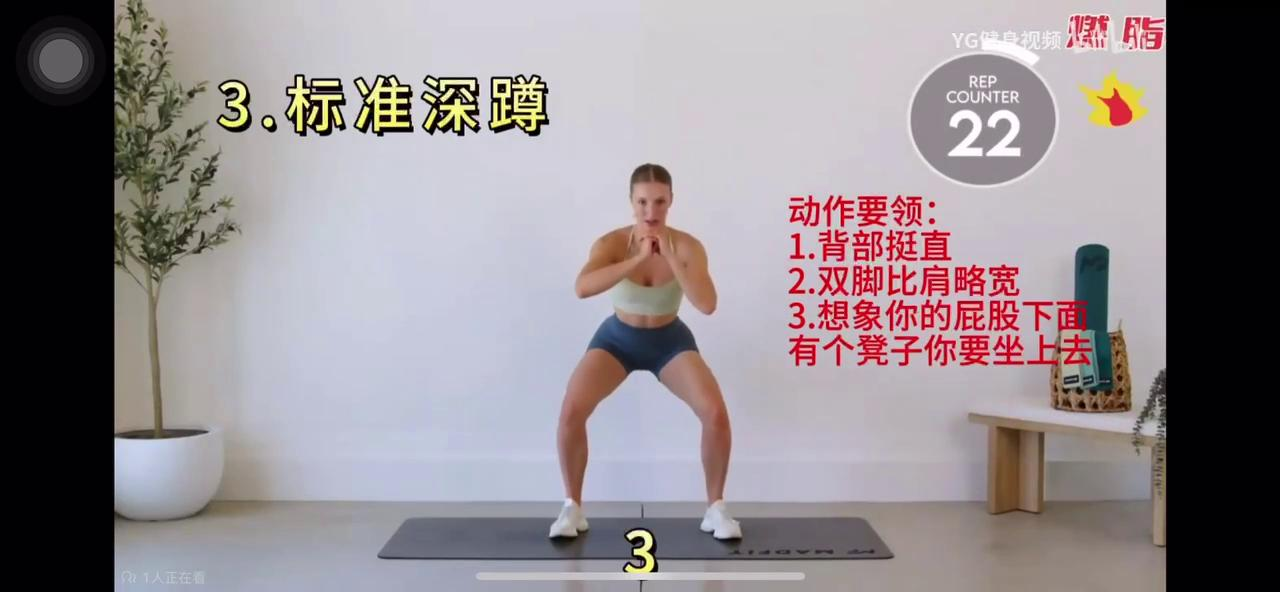Prepare: (550, 160, 747, 544)
